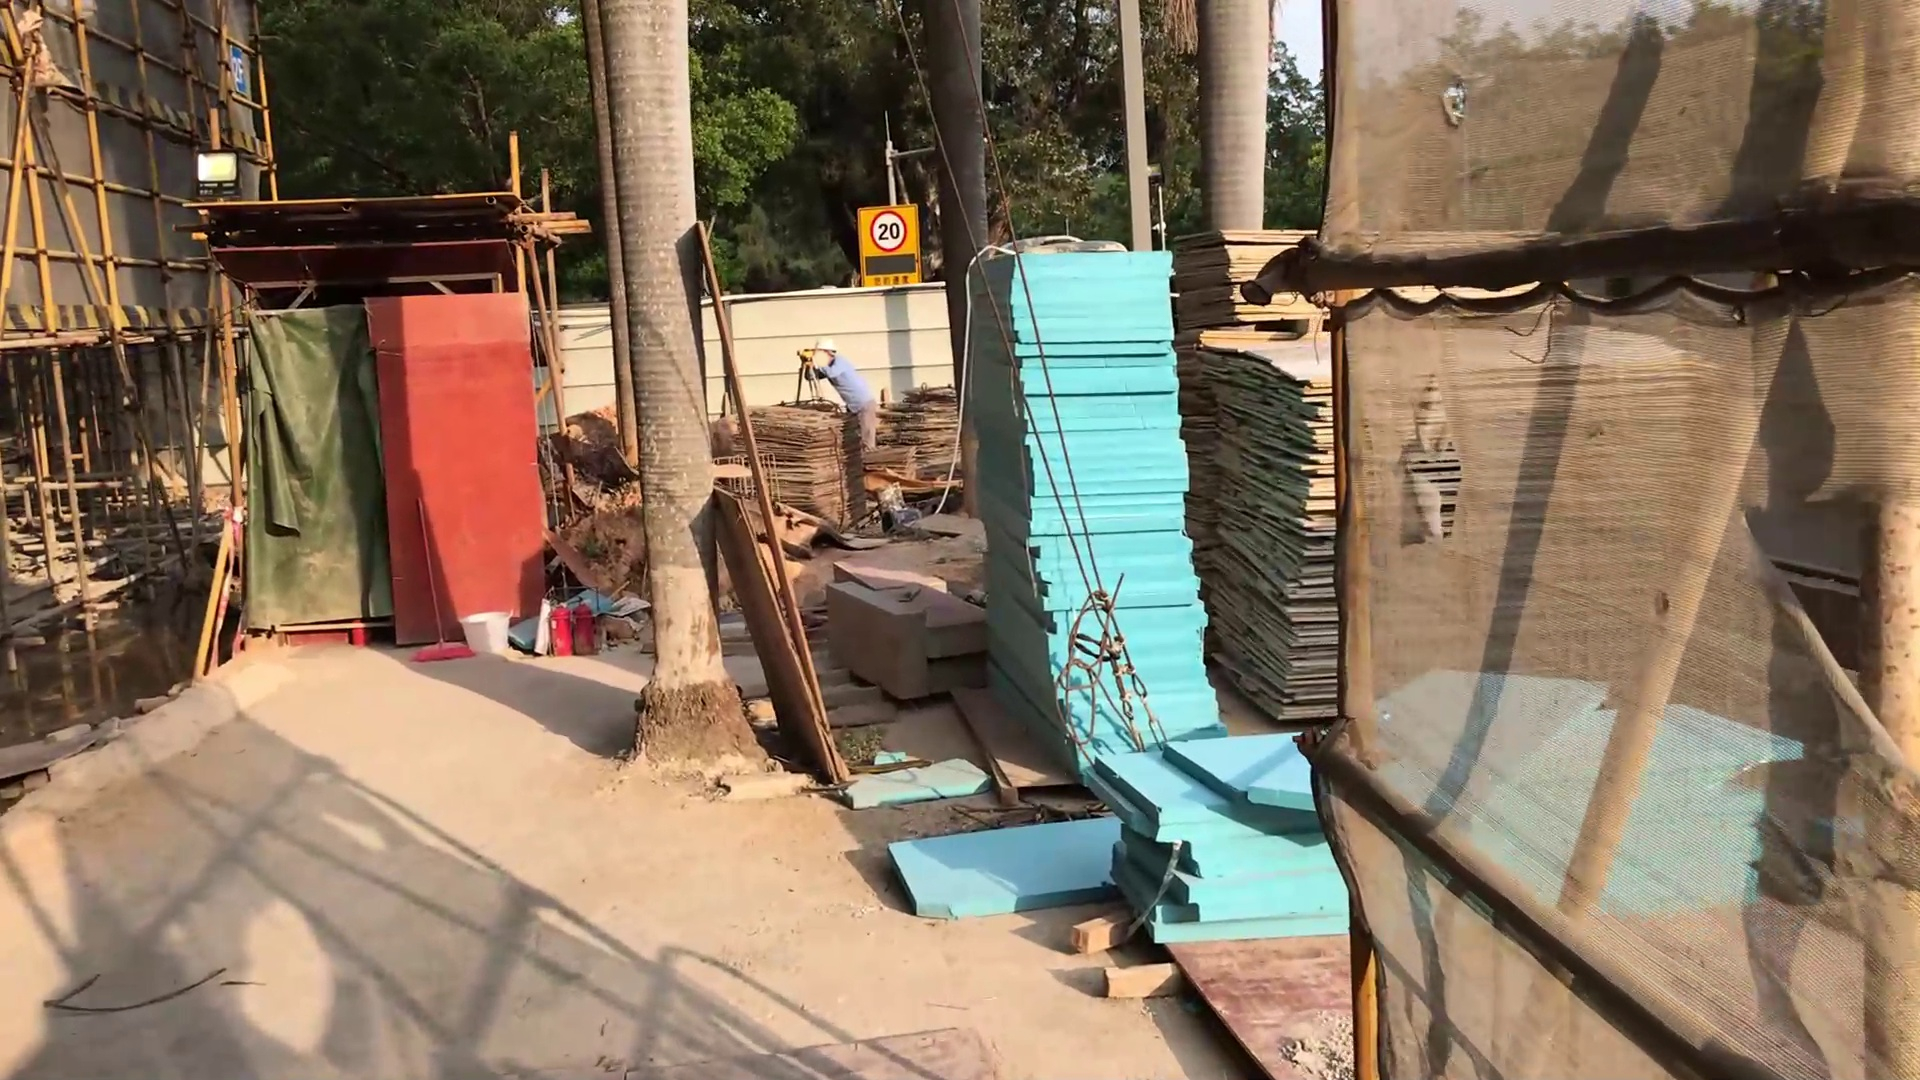board: (1170, 213, 1476, 725)
helmet: (808, 334, 837, 357)
person: (795, 330, 880, 454)
slogan: (859, 199, 921, 292)
